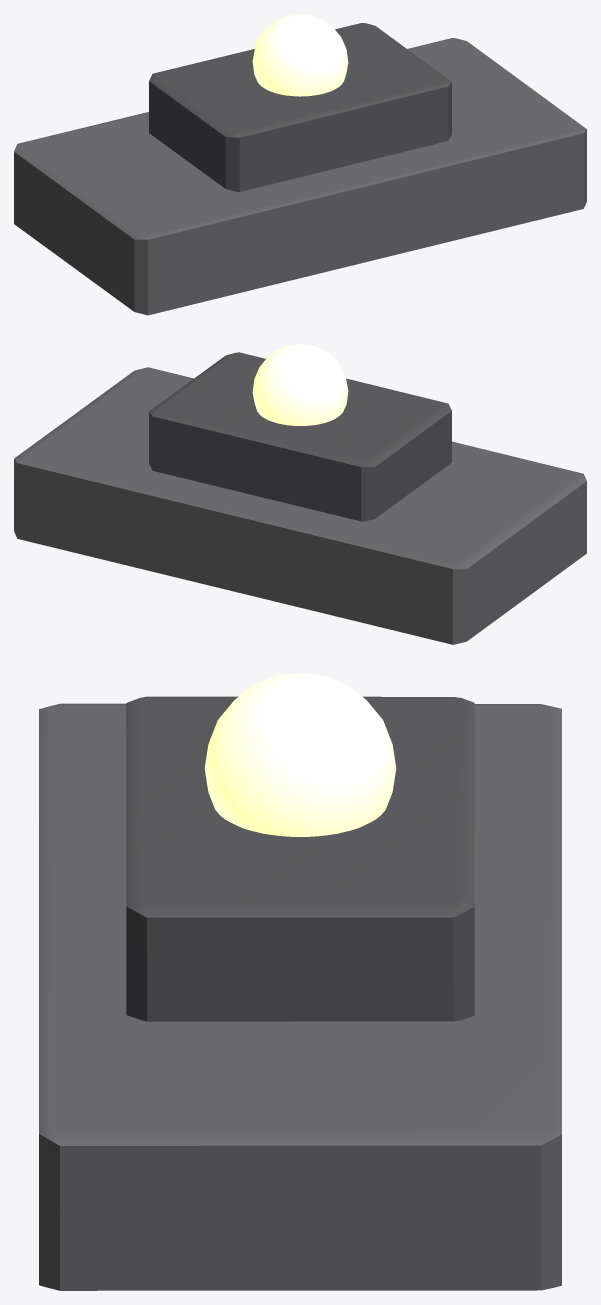
The model's file is hi_bola_punto.glb.
The picture shows the model from 3 angles, top to bottom: view 1: azimuth 30°, elevation 25°; view 2: azimuth 150°, elevation 25°; view 3: azimuth 270°, elevation 25°; orthographic projection. The views are drawn at different scales.
Visible parts, largest first — view 1: alzador, cabeza, cabeza_inserto; view 2: alzador, cabeza, cabeza_inserto; view 3: alzador, cabeza, cabeza_inserto.
Part boxes in pixels (x1,y1,x2,y2): alzador: (14, 38, 586, 315); cabeza: (149, 23, 451, 191); cabeza_inserto: (252, 14, 348, 96); alzador: (14, 367, 586, 644); cabeza: (149, 352, 451, 521); cabeza_inserto: (252, 344, 348, 425); alzador: (39, 703, 561, 1290); cabeza: (126, 696, 474, 1021); cabeza_inserto: (204, 673, 396, 836).
Size of the model in its own units: 0.024 by 0.01 by 0.012.
